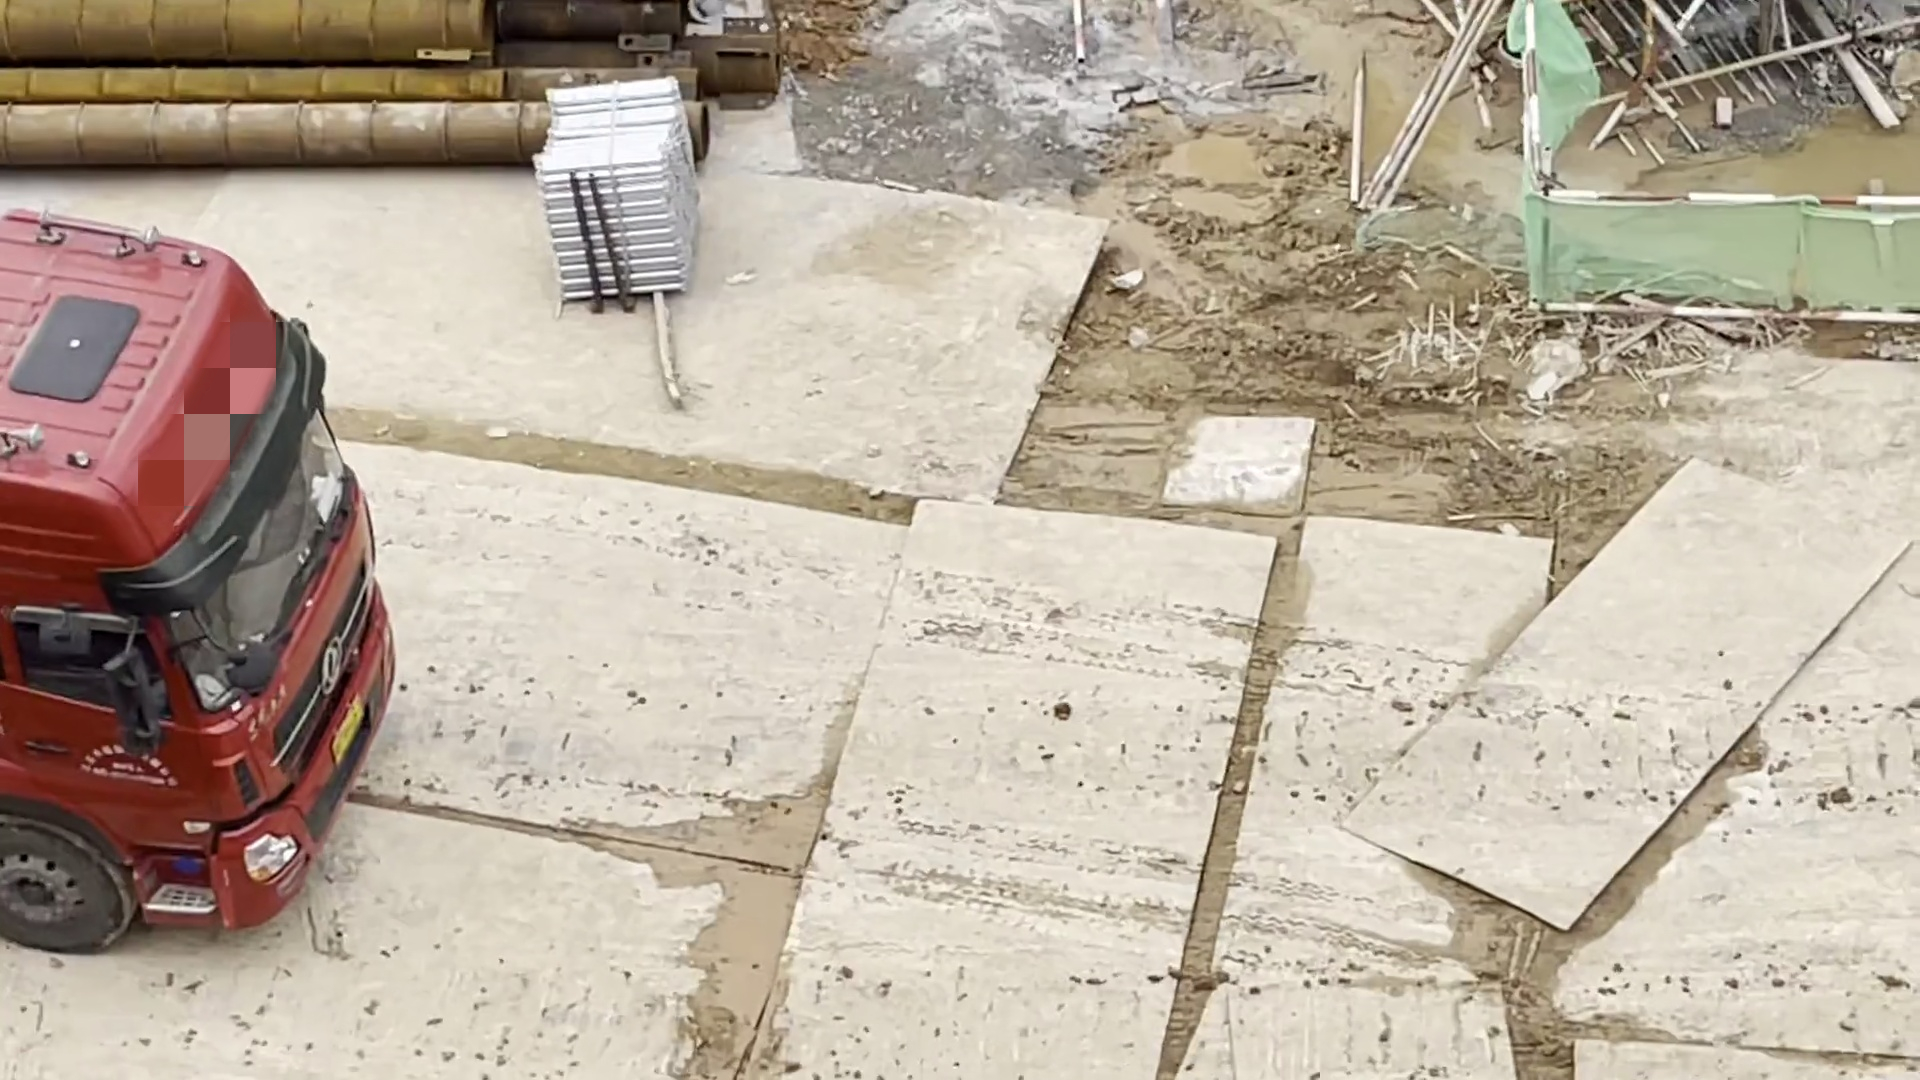scaffold: (521, 69, 738, 320)
